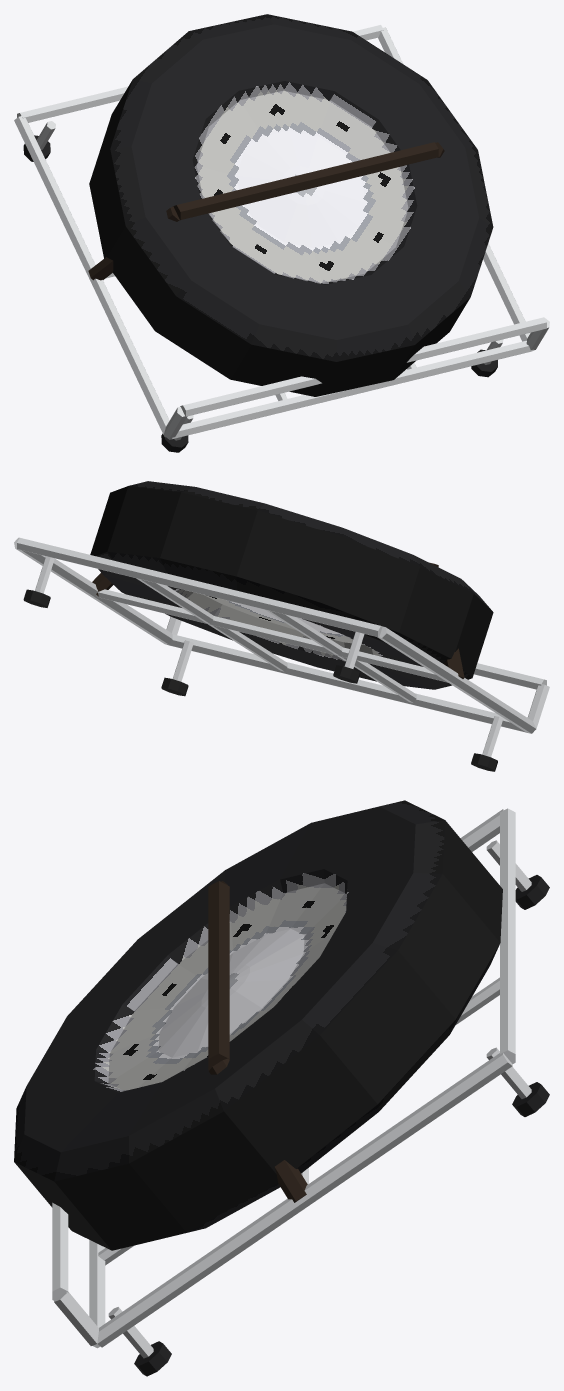
Rendered from rack_rear_spare.glb.
3 renders of one model, top to bottom at view 1: azimuth 30°, elevation 25°; view 2: azimuth 150°, elevation 25°; view 3: azimuth 270°, elevation 25°, orthographic. The views are drawn at different scales.
Visible parts, largest first — view 1: SpareWheel, RearRack, SpareStrap; view 2: SpareWheel, RearRack, SpareStrap; view 3: SpareWheel, RearRack, SpareStrap.
Boxes of the visible parts, x1,y1,x2,y2 form: SpareWheel: [89, 14, 493, 396]; RearRack: [14, 25, 549, 452]; SpareStrap: [88, 142, 444, 280]; SpareWheel: [90, 481, 493, 689]; RearRack: [14, 537, 549, 771]; SpareStrap: [92, 562, 464, 678]; SpareWheel: [14, 800, 502, 1250]; RearRack: [52, 808, 549, 1376]; SpareStrap: [208, 881, 307, 1202].
Bounding box in the file's own units: 0.5796 × 0.4616 × 0.5247.
5 materials, 1 textured.
